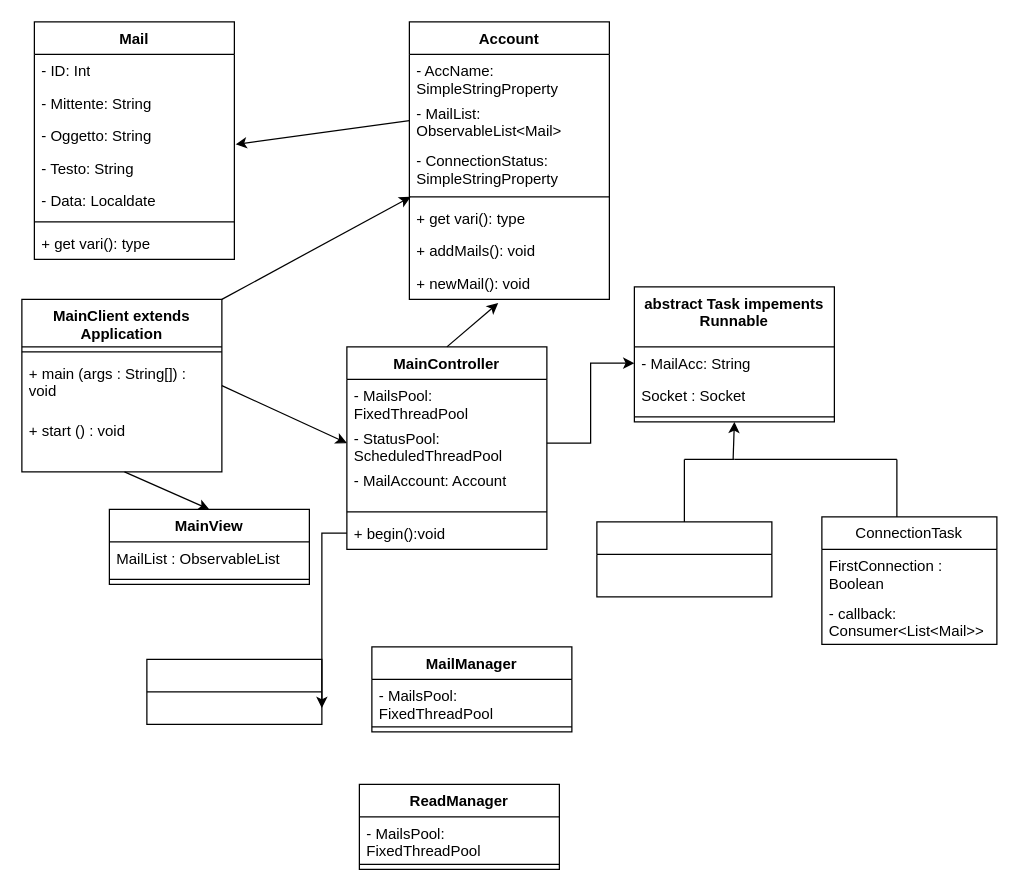
Image size: 1019x891. Some labels were removed from this diagram. The centre of each missing label's shape, as x and y in pixels:
MailView: [234,691]
SendTask: [684,559]
